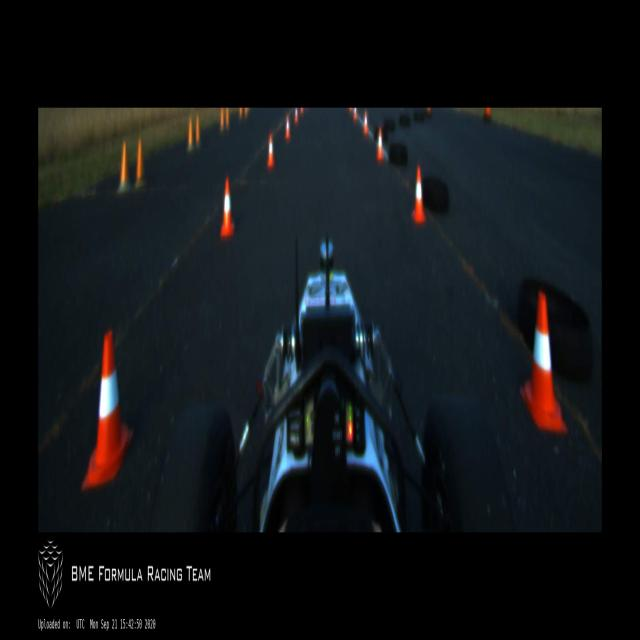orange_cone: (82, 330, 134, 492), (520, 292, 568, 432), (220, 179, 234, 239), (412, 166, 426, 225), (267, 134, 275, 168), (376, 128, 384, 162), (285, 115, 291, 140), (363, 112, 368, 134), (294, 108, 298, 123)
unknown_cone: (117, 139, 132, 196), (134, 139, 147, 189), (186, 116, 194, 154), (195, 114, 202, 148), (218, 108, 224, 132), (225, 108, 230, 126)
